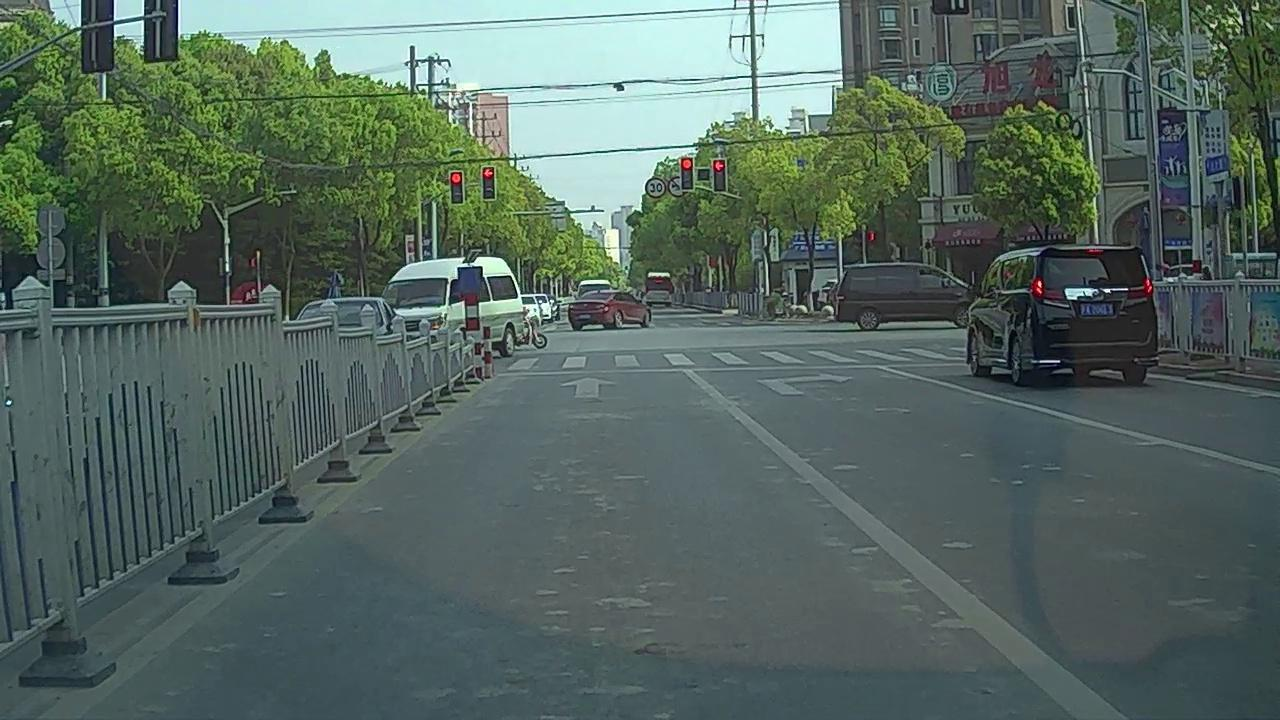traffic_light: (481, 166, 497, 201), (451, 172, 465, 204), (713, 159, 726, 191), (681, 158, 693, 191)
